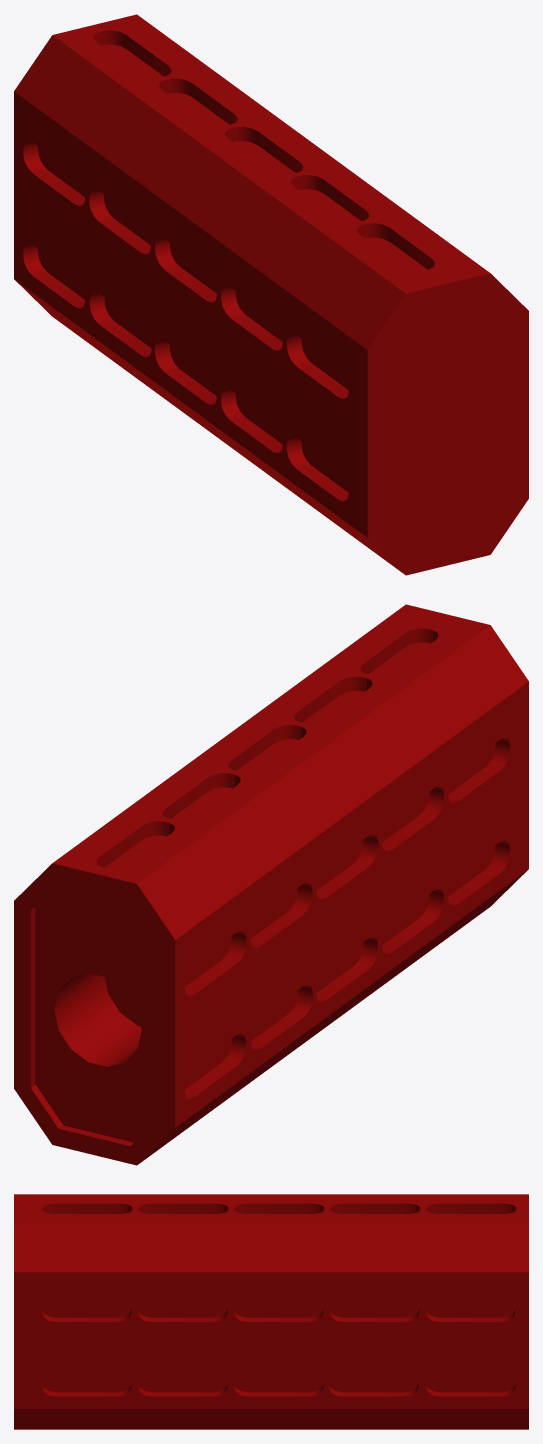
Rendered from M_weapon_damage_mod.FBX.
The picture shows the model from 3 angles, top to bottom: view 1: azimuth 30°, elevation 25°; view 2: azimuth 150°, elevation 25°; view 3: azimuth 270°, elevation 25°; orthographic projection. The views are drawn at different scales.
Parts seen in each view (by area): view 1: Damage_low; view 2: Damage_low; view 3: Damage_low.
Part boxes in pixels (x1,y1,x2,y2): Damage_low: (14, 14, 528, 575); Damage_low: (14, 604, 528, 1165); Damage_low: (14, 1194, 528, 1429).
Bounding box in the file's own units: 9.16 × 34.79 × 15.29.
